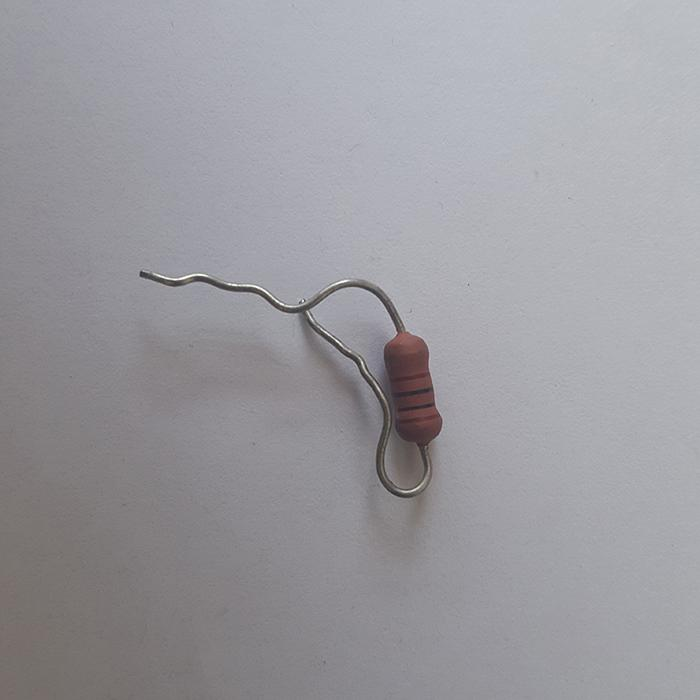resistor: (384, 330, 442, 446)
